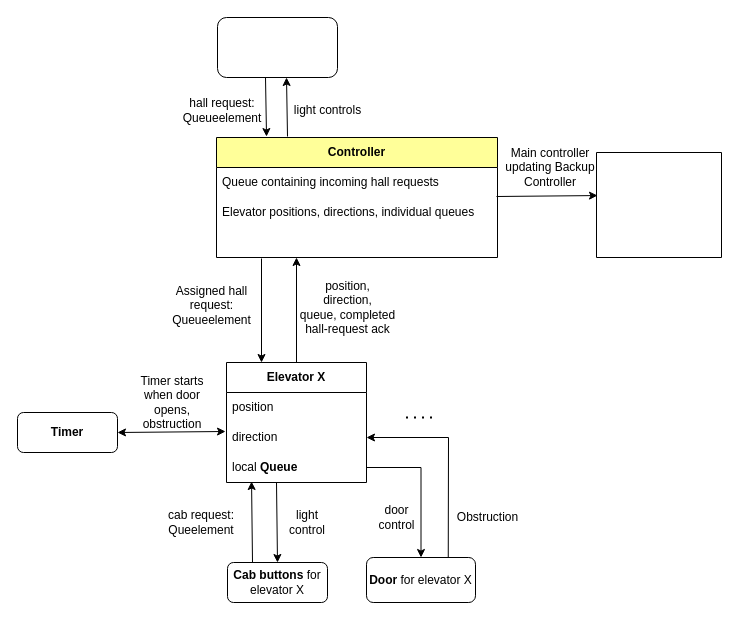
Some shapes in this 739 by 620 pixel diagram are drawn without their labels. The centre of each missing label's shape, as x and y in pixels:
"Backup Controller" goes at (659,205).
"Hall buttons" goes at (277,47).
